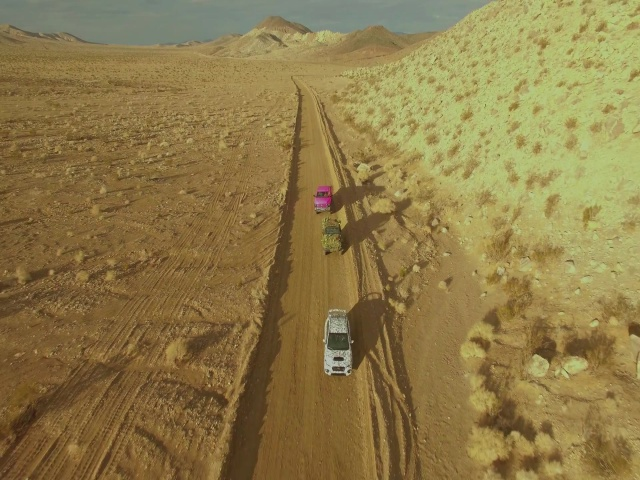vehicle: (321, 307, 355, 378), (321, 216, 344, 257), (313, 184, 334, 215)
